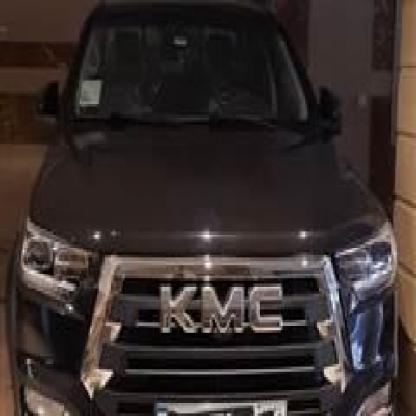Car: (0, 0, 397, 416)
